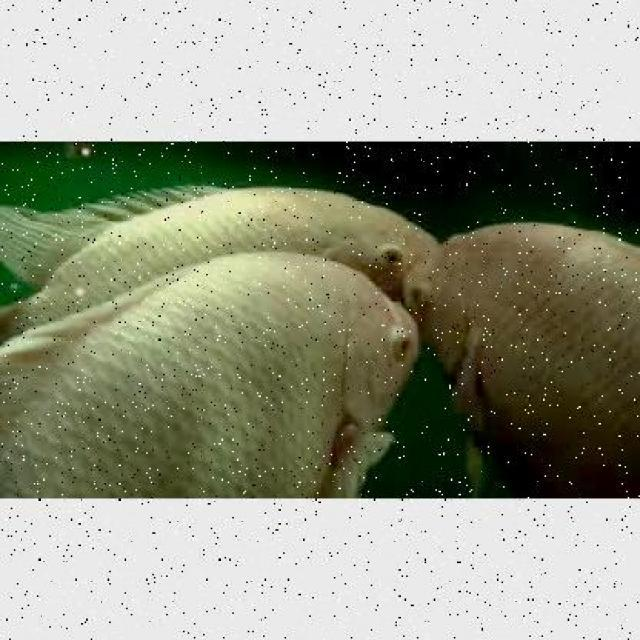gurame: (0, 263, 418, 497), (404, 220, 638, 497), (5, 178, 432, 296)
